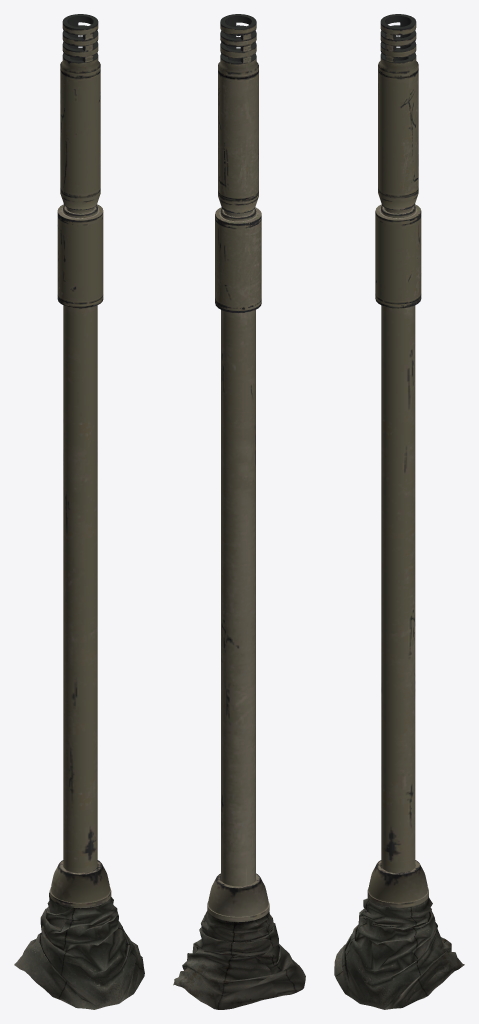
Rendered from Gun_01.glb.
3 views of the same model, side by side, from view 1: azimuth 30°, elevation 25°; view 2: azimuth 210°, elevation 25°; view 3: azimuth 330°, elevation 25° (orthographic).
Visible parts, largest first — view 1: set_0_group_0; view 2: set_0_group_0; view 3: set_0_group_0.
Part boxes in pixels (x1=…): set_0_group_0: x1=14, y1=14, x2=144, y2=1009; set_0_group_0: x1=173, y1=14, x2=305, y2=1009; set_0_group_0: x1=334, y1=14, x2=464, y2=1009.
Size of the model in its own units: 0.7958 by 6.73 by 0.6463.
1 material, 1 textured.
